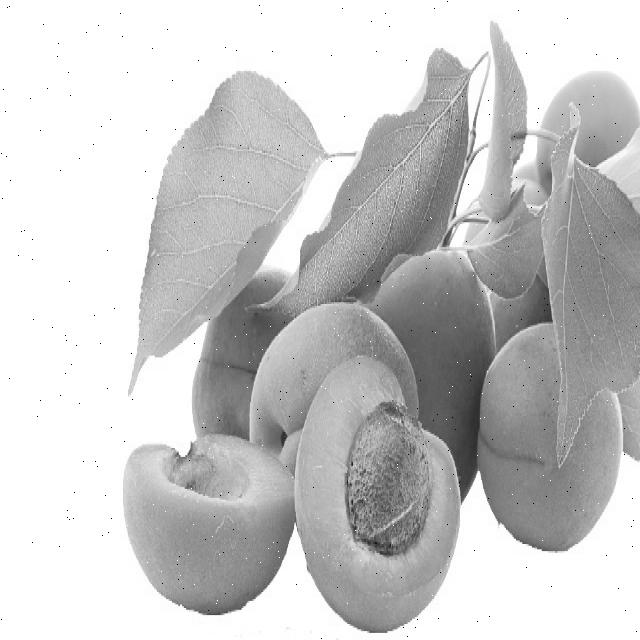kayisi: (107, 399, 303, 633)
kayisi cekirdegi: (327, 392, 453, 578)
yaprak: (110, 90, 622, 346)
